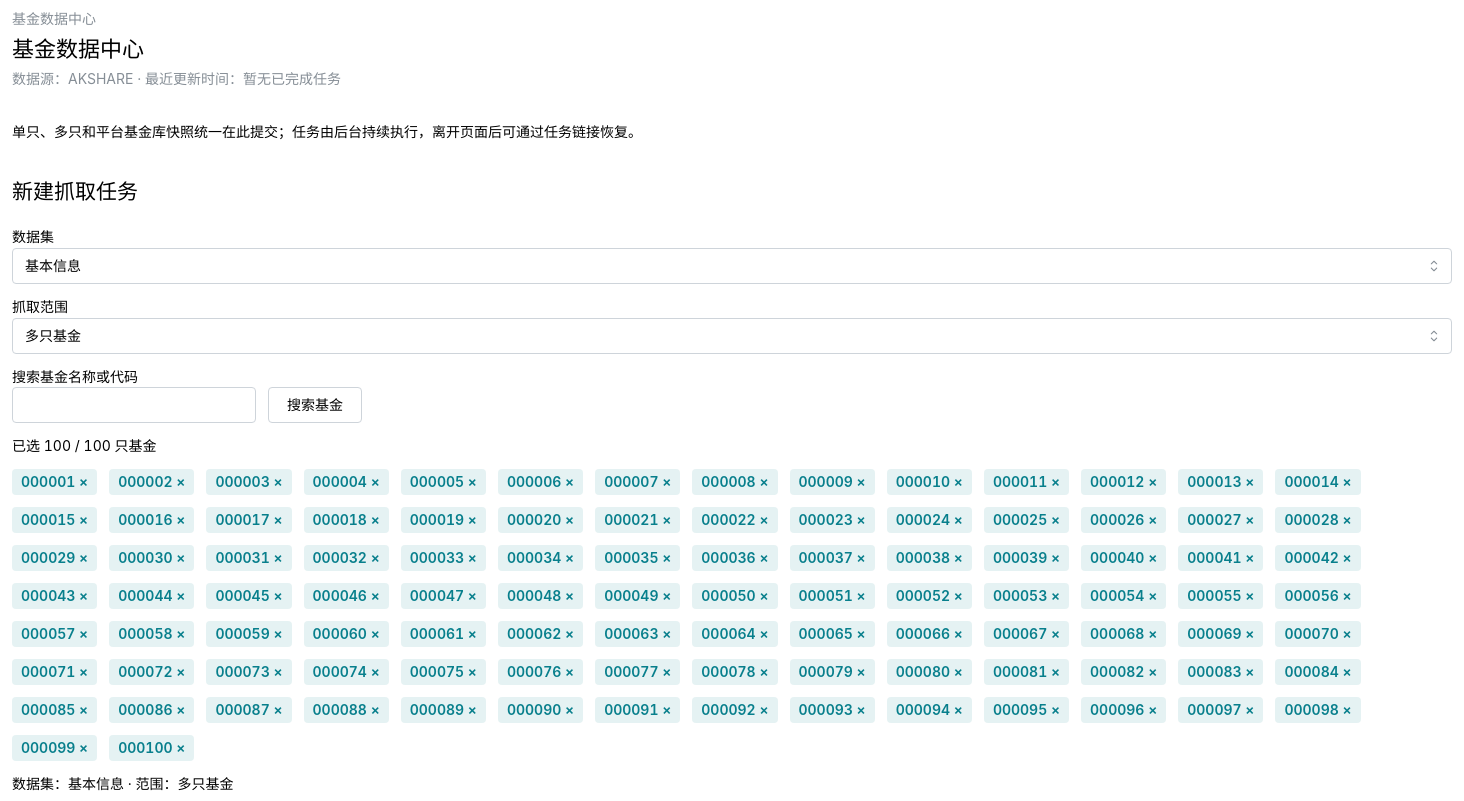
fund data center › retains selection across search pages and caps it at 100
The width and height of the screenshot is (1464, 801).
Expected: the text "已选 100 / 100 只基金" is shown, [12,437,157,454]
In the field labelled "搜索基金名称或代码": (134, 405) [12,387,256,423], type "Other"
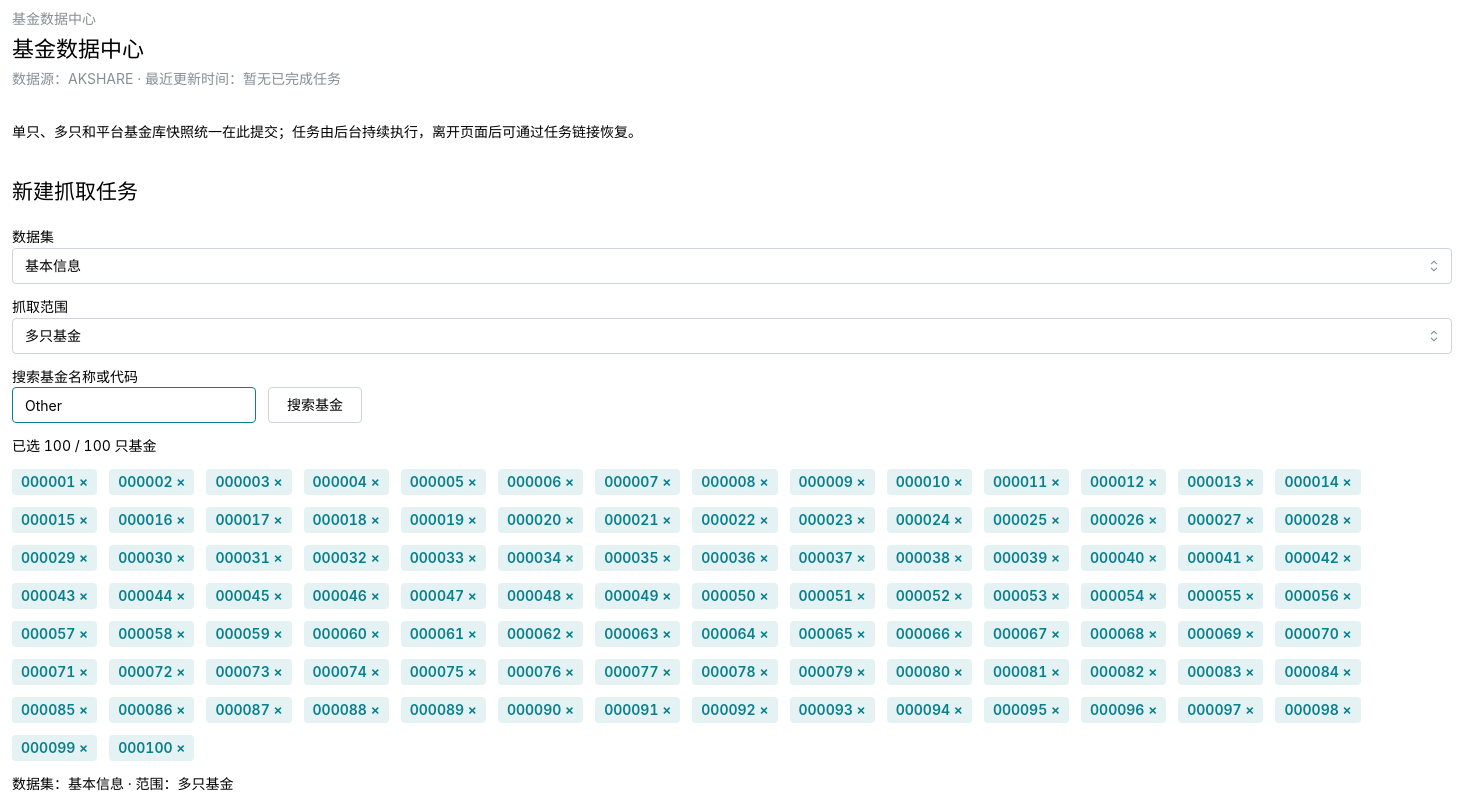
Click the button "搜索基金": (315, 405) [268,387,362,423]
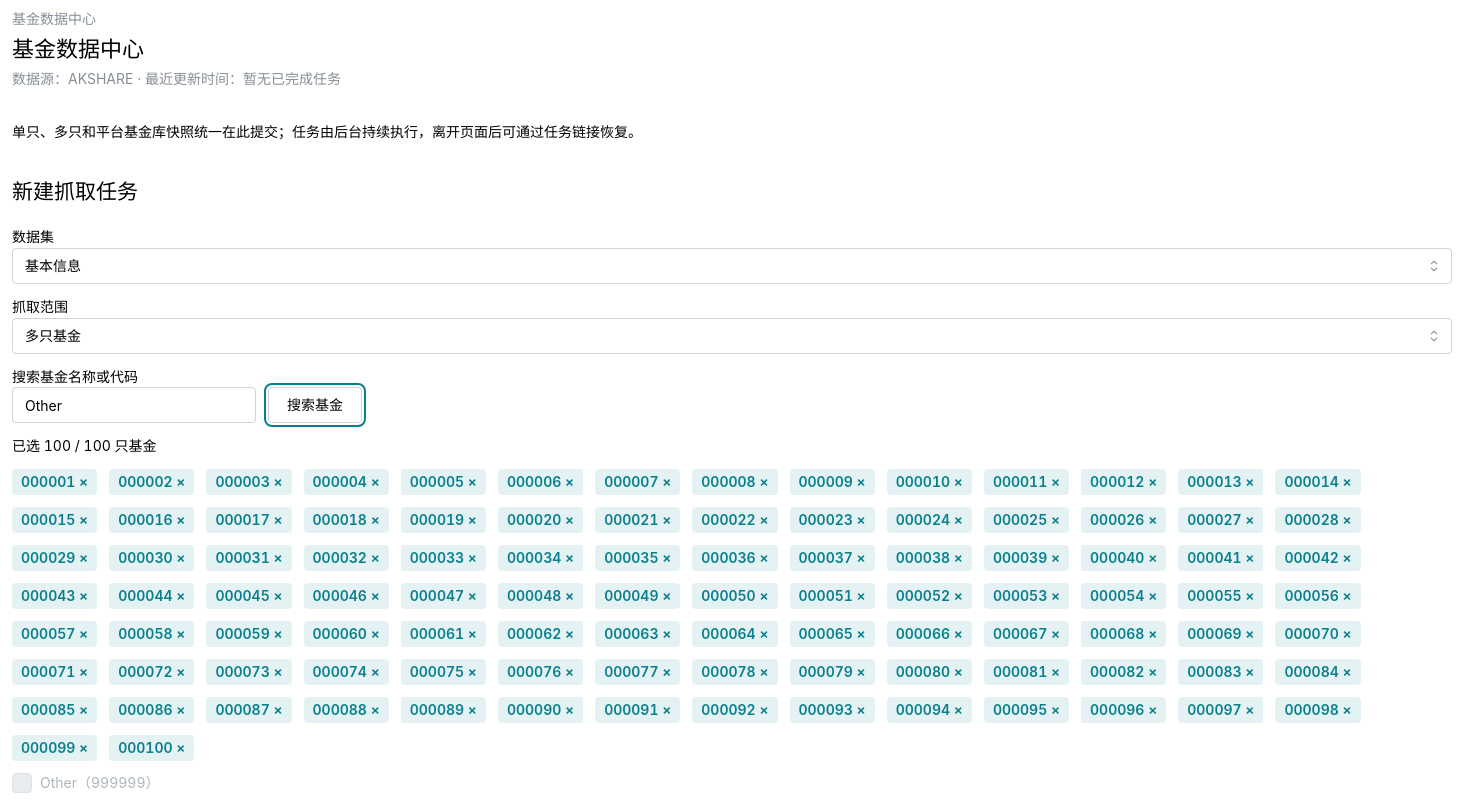
Result: the checkbox named "选择 Other（999999）" is disabled at [12,773,32,793]
